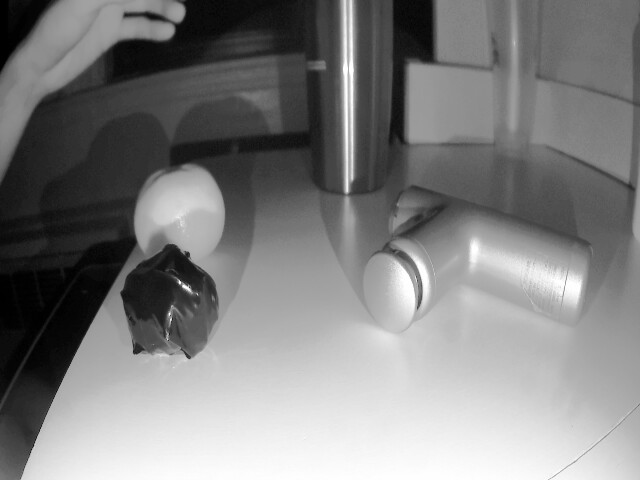black: (119, 245, 239, 359)
